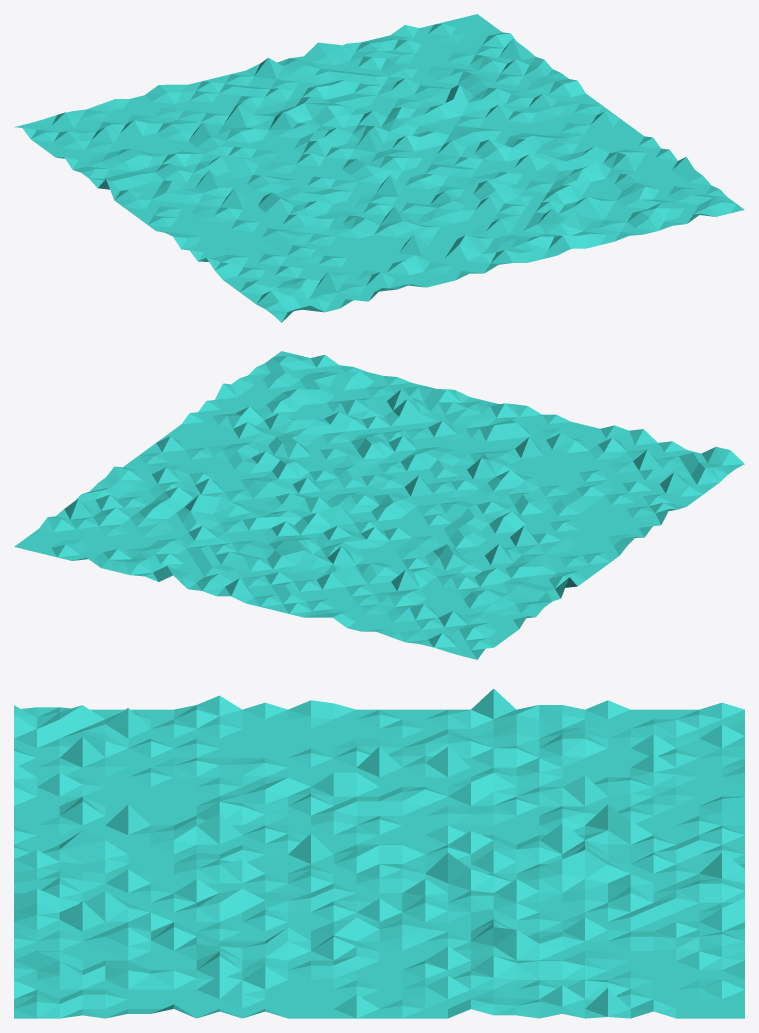
The model's file is FASE 4 MAR.dae.
3 renders of one model, top to bottom at view 1: azimuth 30°, elevation 25°; view 2: azimuth 150°, elevation 25°; view 3: azimuth 270°, elevation 25°, orthographic. The views are drawn at different scales.
Visible parts, largest first — view 1: Plane; view 2: Plane; view 3: Plane.
Boxes of the visible parts, x1,y1,x2,y2 form: Plane: [14, 14, 744, 322]; Plane: [14, 351, 744, 659]; Plane: [14, 688, 744, 1018].
Size of the model in its own units: 1604 by 1604 by 51.4.
